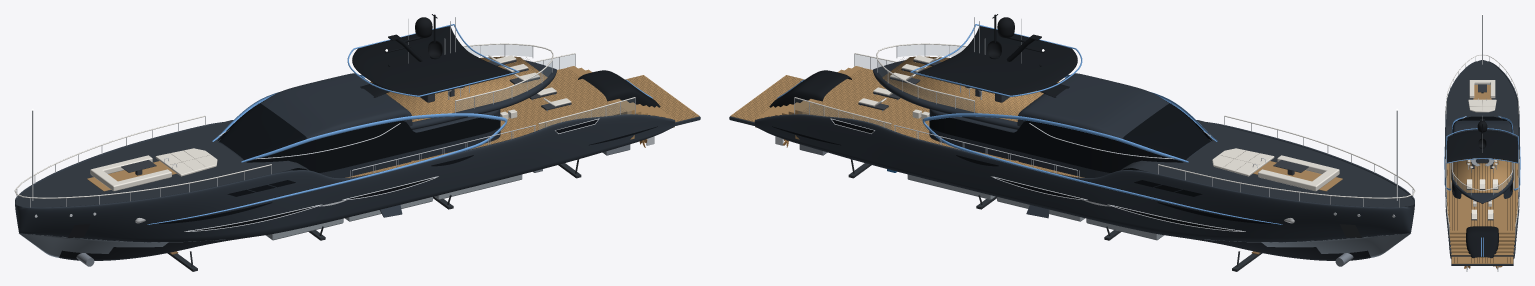
Rendered from jacht50.glb.
3 renders of one model, left to right at view 1: azimuth 30°, elevation 25°; view 2: azimuth 150°, elevation 25°; view 3: azimuth 270°, elevation 25°, orthographic. The views are drawn at different scales.
Parts seen in each view (by area): view 1: Romp, Opbouw voor, Vleugel, Oogglas, Teakdek, Voordekvloer, Voordekvloer.001, Onderwaterschip, Zonnedekteak, Voorruit, Zwaai bb, Achterkap (+14 smaller); view 2: Romp, Opbouw voor, Vleugel, Oogglas, Teakdek, Voordekvloer.001, Voordekvloer, Onderwaterschip, Zonnedekteak, Voorruit, Zwaai sb, Achterkap (+14 smaller); view 3: Teakdek, Vleugel, Zonnedekteak, Voordekvloer, Voordekvloer.001, Achterkap, Romp, Opbouw voor, Teaknaden, Zonnedekvloer, Platformteak, Ligkussen (+31 smaller).
Part boxes in pixels (x1,y1,x2,y2): Romp: (15,114,675,242); Opbouw voor: (218,73,412,177); Vleugel: (352,26,515,96); Oogglas: (217,103,499,172); Teakdek: (345,67,626,177); Voordekvloer: (25,157,309,207); Voordekvloer.001: (16,120,233,200); Onderwaterschip: (19,133,661,260); Zonnedekteak: (370,56,547,121); Voorruit: (219,103,306,160); Zwaai bb: (147,113,507,224); Achterkap: (578,70,660,107); Romp: (754,114,1414,242); Opbouw voor: (1017,73,1211,177); Vleugel: (914,26,1077,96); Oogglas: (930,103,1212,172); Teakdek: (803,67,1084,177); Voordekvloer.001: (1120,157,1404,207); Voordekvloer: (1196,120,1413,200); Onderwaterschip: (768,133,1410,260); Zonnedekteak: (882,56,1059,121); Voorruit: (1123,103,1210,160); Zwaai sb: (922,113,1282,224); Achterkap: (769,70,851,107); Teakdek: (1446,163,1518,230); Vleugel: (1447,130,1517,162); Zonnedekteak: (1453,158,1511,192); Voordekvloer: (1446,62,1475,137); Voordekvloer.001: (1489,62,1518,137); Achterkap: (1466,226,1498,258); Romp: (1445,61,1519,257); Opbouw voor: (1452,120,1512,134); Teaknaden: (1447,163,1517,230); Zonnedekvloer: (1451,162,1513,203); Platformteak: (1451,256,1513,263); Ligkussen: (1468,99,1496,112).
Bounding box in the file's own units: 51.35 × 13.52 × 9.39.
